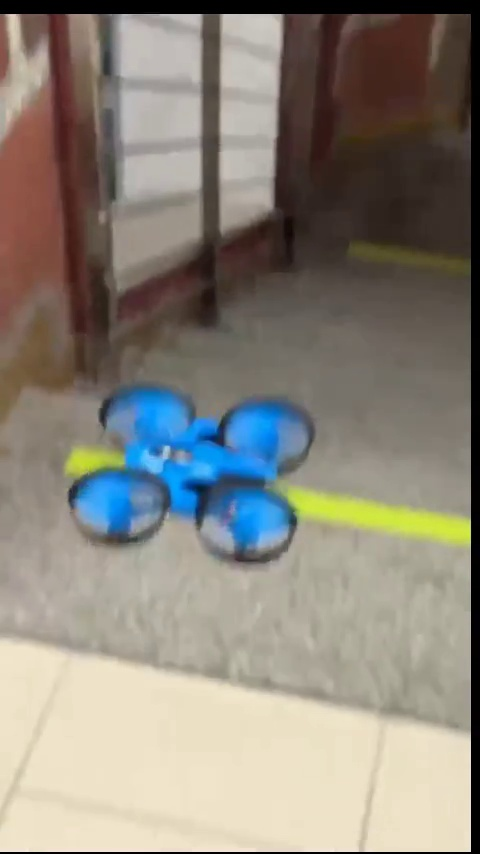drone: (65, 391, 313, 563)
